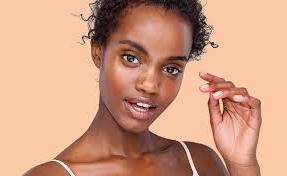face: (101, 8, 189, 134)
